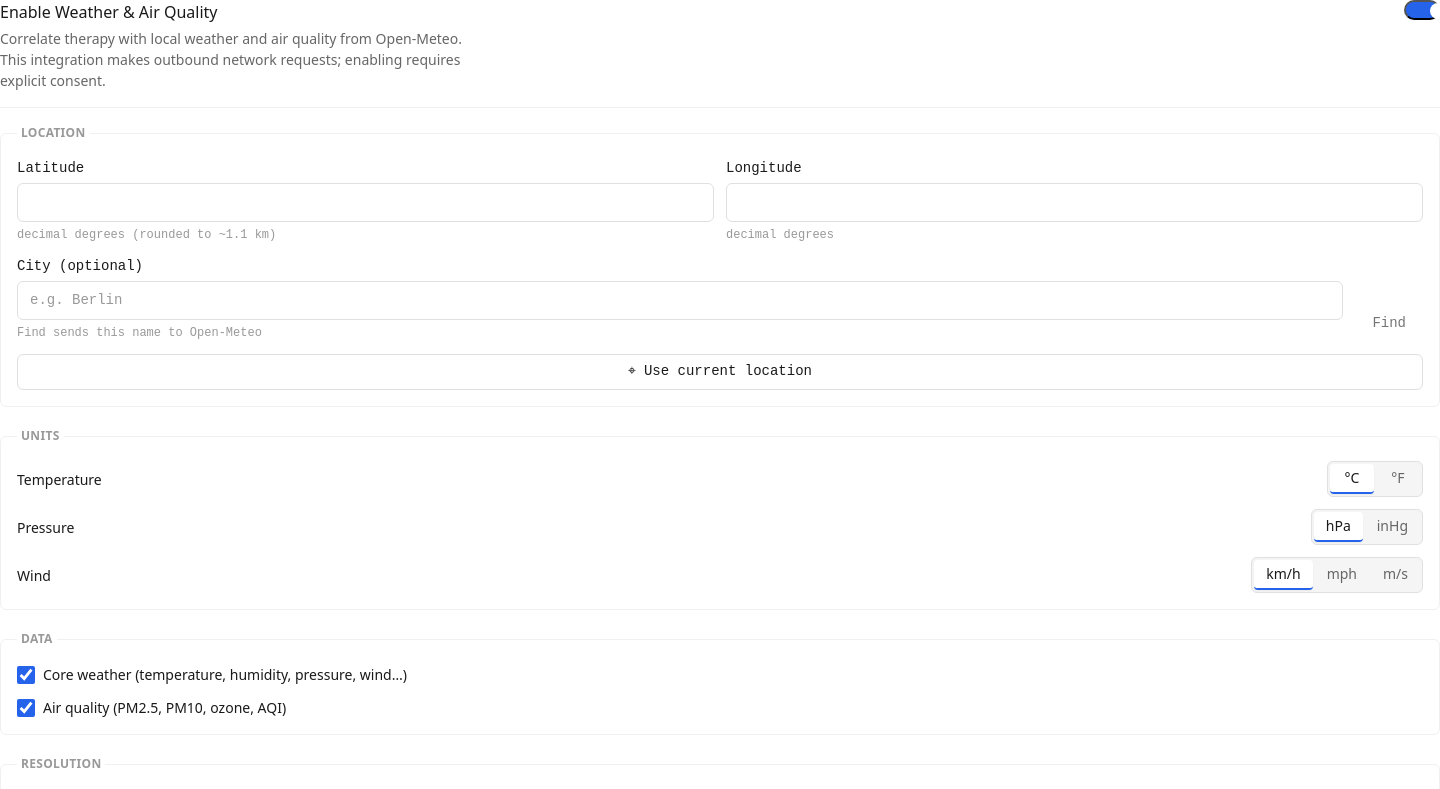
Test case: WeatherIntegrationPanel › geolocation denial shows a role=alert and moves focus to the latitude input
Click the button "⌖ Use current location": [720, 372] box [17,354,1423,390]
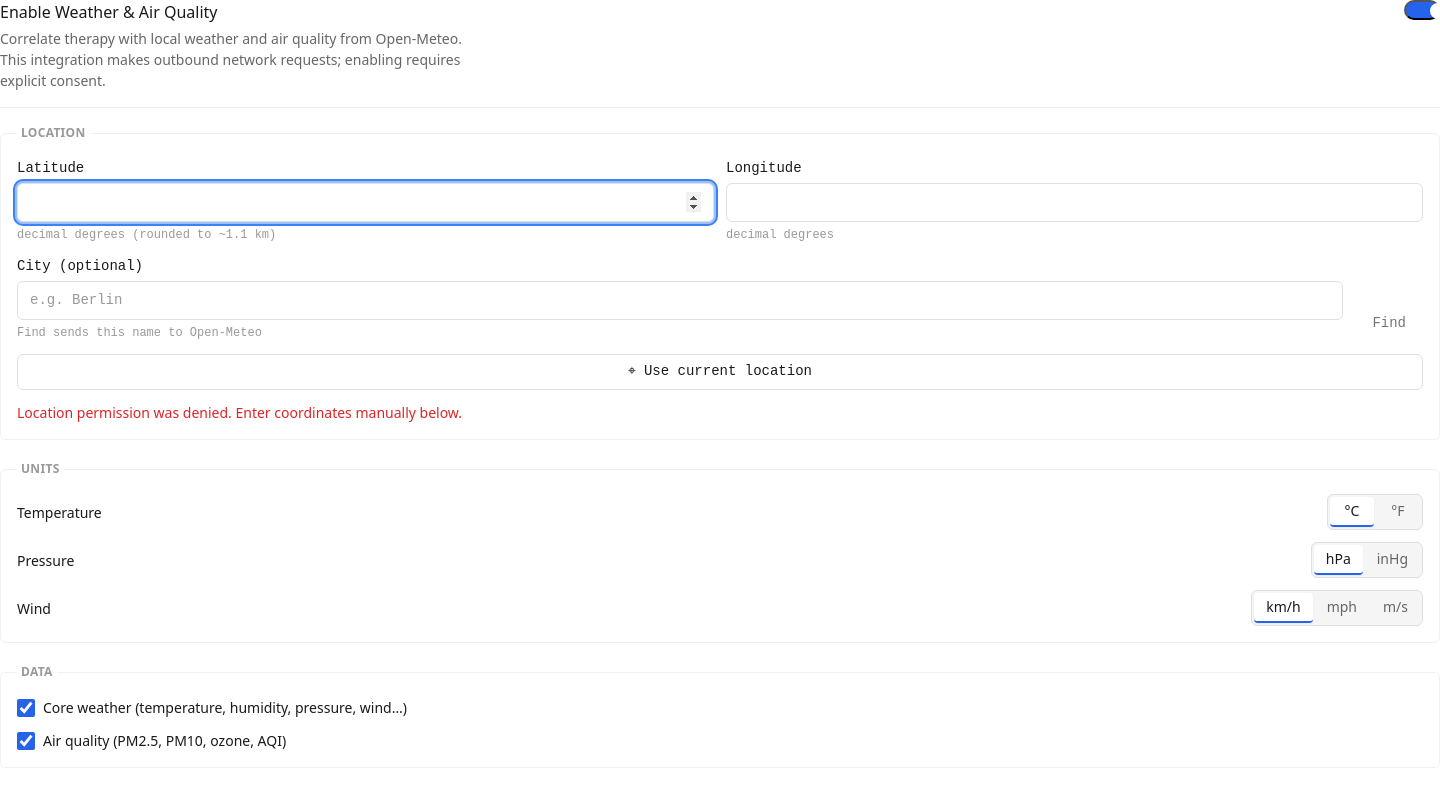
Expected: the text "Location permission was denied. Enter coordinates manually below." is shown, [17,403,462,422]
